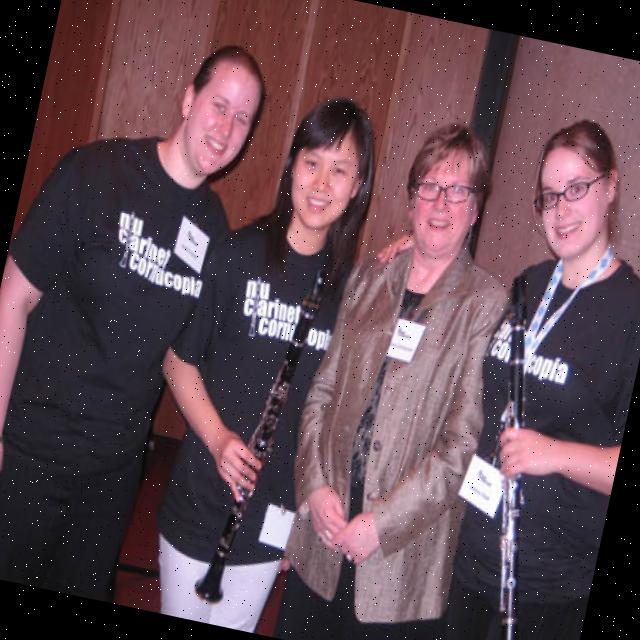clarinet: (427, 271, 612, 640), (190, 256, 332, 617)
